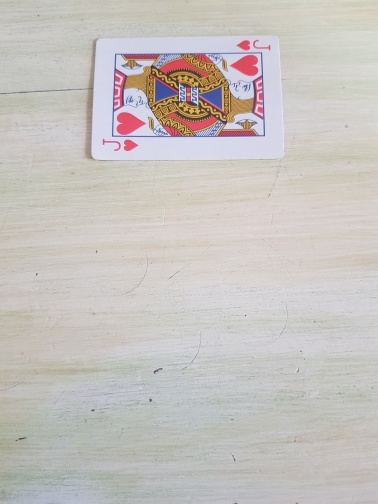jack: (90, 34, 286, 162)
